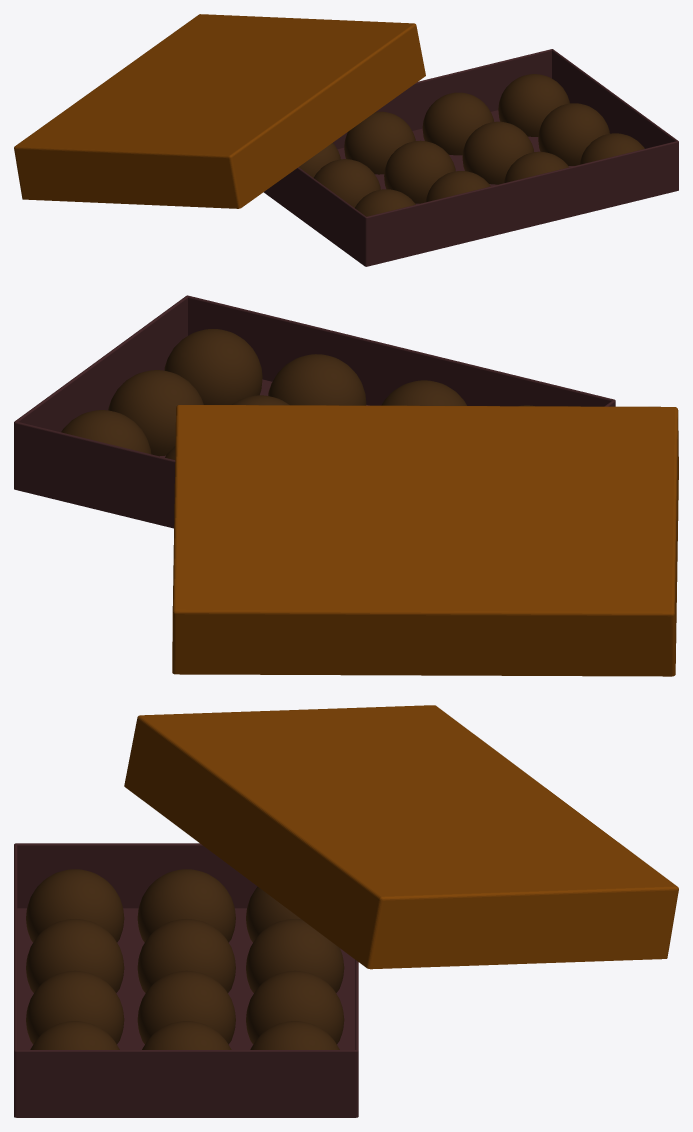
The model's file is box of chocolates.fbx.
3 renders of one model, top to bottom at view 1: azimuth 30°, elevation 25°; view 2: azimuth 150°, elevation 25°; view 3: azimuth 270°, elevation 25°, orthographic. The views are drawn at different scales.
Visible parts, largest first — view 1: Cover, Tray, chocolate.009, chocolate.008, chocolate.005, chocolate.010, chocolate.004, chocolate.006, chocolate.011, chocolate, chocolate.001, chocolate.002 (+2 smaller); view 2: Cover, Tray, chocolate, chocolate.008, chocolate.001, chocolate.004, chocolate.002; view 3: Cover, Tray, chocolate.002, chocolate.010, chocolate.001, chocolate.005, chocolate.009, chocolate.011, chocolate.003, chocolate.006, chocolate.004, chocolate (+2 smaller).
Boxes of the visible parts, x1,y1,x2,y2 form: Cover: (14, 14, 425, 208); Tray: (263, 49, 678, 266); chocolate.009: (462, 121, 533, 184); chocolate.008: (538, 103, 609, 165); chocolate.005: (422, 92, 493, 155); chocolate.010: (384, 140, 455, 203); chocolate.004: (498, 74, 569, 136); chocolate.006: (344, 111, 415, 174); chocolate.011: (314, 159, 380, 207); chocolate: (579, 133, 644, 164); chocolate.001: (504, 151, 568, 182); chocolate.002: (425, 171, 490, 202); Cover: (172, 405, 678, 676); Tray: (14, 295, 615, 528); chocolate: (164, 329, 262, 404); chocolate.008: (108, 370, 203, 456); chocolate.001: (268, 354, 366, 405); chocolate.004: (61, 410, 151, 454); chocolate.002: (381, 380, 466, 405); Cover: (124, 705, 678, 969); Tray: (14, 843, 358, 1117); chocolate.002: (26, 919, 124, 992); chocolate.010: (137, 919, 235, 992); chocolate.001: (26, 970, 124, 1044); chocolate.005: (246, 970, 344, 1044); chocolate.009: (137, 970, 235, 1044); chocolate.011: (137, 869, 235, 942); chocolate.003: (26, 869, 124, 942); chocolate.006: (246, 919, 344, 992); chocolate.004: (250, 1021, 339, 1049); chocolate: (30, 1021, 119, 1049).
Size of the model in its own units: 32.54 by 6.05 by 27.01.
